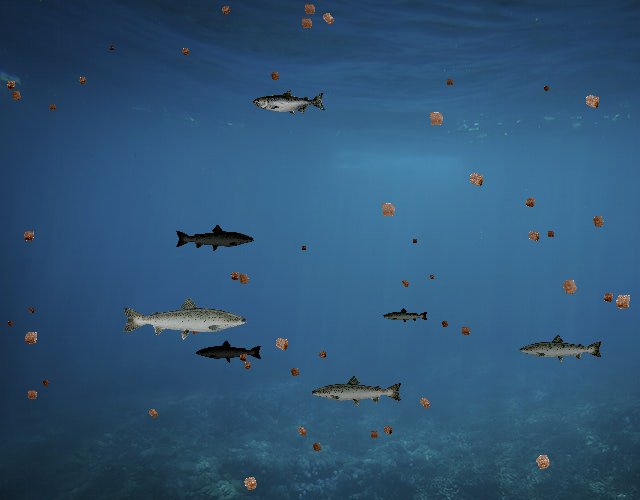Fish: (120, 295, 249, 341), (310, 374, 404, 408), (518, 333, 604, 364), (175, 223, 256, 253), (253, 89, 326, 116), (195, 340, 263, 364), (383, 307, 430, 324)
Pellet: (608, 286, 638, 316), (236, 469, 264, 497), (268, 331, 295, 358), (316, 6, 340, 30), (6, 85, 27, 106), (216, 1, 235, 20), (74, 73, 90, 89), (540, 83, 553, 96), (25, 304, 37, 316)
